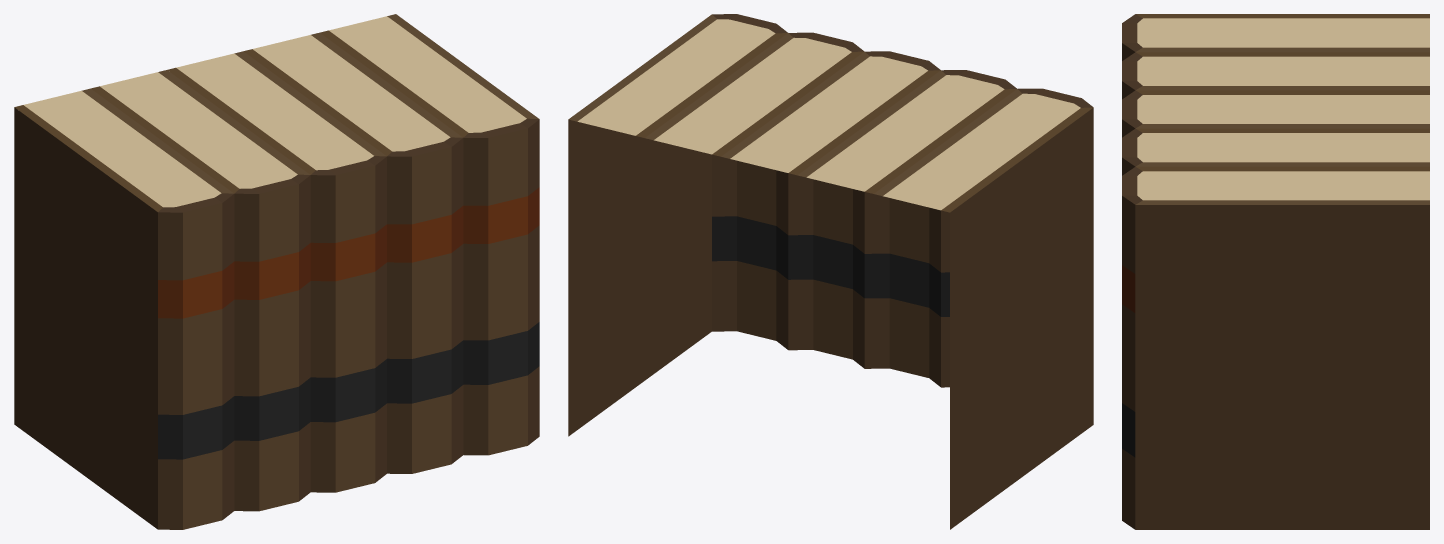
File: Prop_BookBunchE.fbx
3 renders of one model, left to right at view 1: azimuth 30°, elevation 25°; view 2: azimuth 150°, elevation 25°; view 3: azimuth 270°, elevation 25°, orthographic. The views are drawn at different scales.
Parts seen in each view (by area): view 1: Prop_BookBunchE; view 2: Prop_BookBunchE; view 3: Prop_BookBunchE.
Boxes of the visible parts, x1,y1,x2,y2 form: Prop_BookBunchE: (14, 14, 539, 529); Prop_BookBunchE: (568, 14, 1093, 529); Prop_BookBunchE: (1122, 14, 1429, 529).
Bounding box in the file's own units: 32.64 × 25.92 × 22.25.
